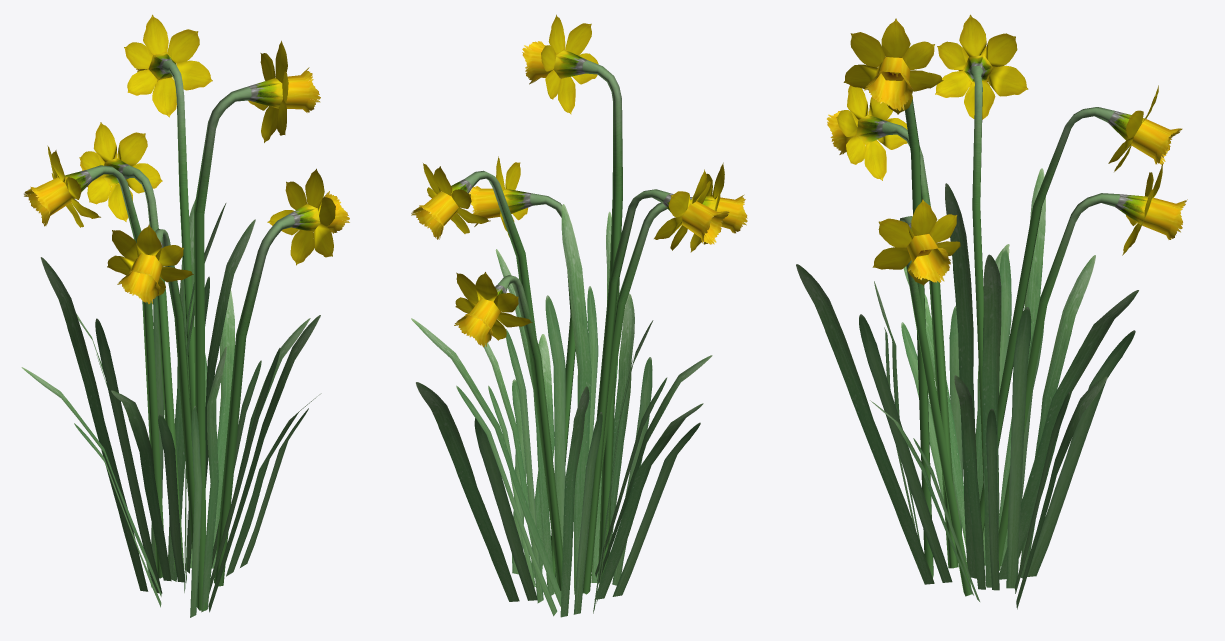
File: Narcissus3A.fbx
The picture shows the model from 3 angles, left to right: view 1: azimuth 30°, elevation 25°; view 2: azimuth 150°, elevation 25°; view 3: azimuth 270°, elevation 25°; orthographic projection. The views are drawn at different scales.
Visible parts, largest first — view 1: Narcissus3A_LOD0; view 2: Narcissus3A_LOD0; view 3: Narcissus3A_LOD0.
Part boxes in pixels (x1,y1,x2,y2): Narcissus3A_LOD0: (21,14,349,617); Narcissus3A_LOD0: (411,14,747,617); Narcissus3A_LOD0: (796,14,1187,609).
Size of what is drawn, in the model's own units: 41.75 by 74.23 by 48.3.
